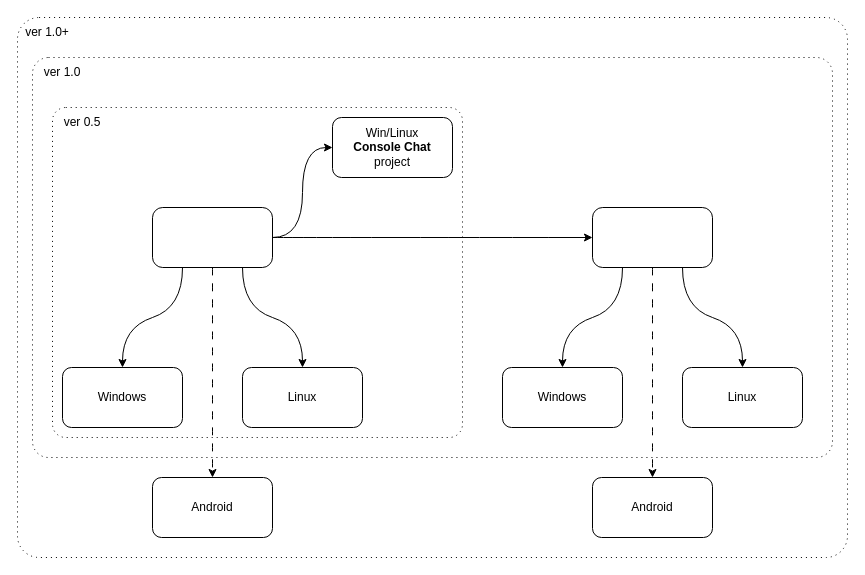
Image size: 865x575. Some labels were removed from this diagram. Each missing label, with the box of its shape:
Chat GUI Qt project: (592, 206, 712, 268)
ChatAPI project: (152, 206, 272, 268)
